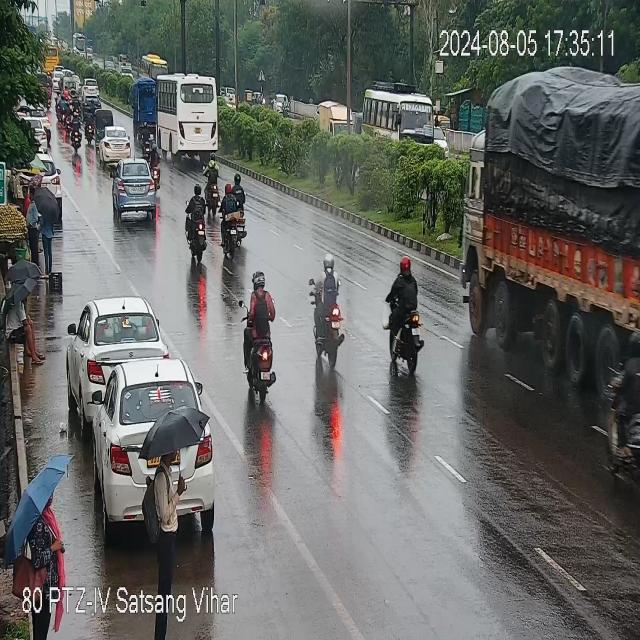2-wheelers: (384, 245, 434, 384), (242, 268, 297, 392), (309, 240, 356, 364), (609, 360, 640, 476), (181, 174, 212, 276), (198, 148, 228, 227), (221, 180, 240, 267), (232, 164, 247, 242), (146, 147, 166, 197), (64, 110, 84, 158), (48, 86, 76, 119), (84, 101, 101, 153), (140, 122, 152, 154), (280, 94, 292, 115)
auto: (94, 108, 113, 129)
bus: (154, 54, 220, 172), (364, 78, 444, 162), (43, 44, 63, 78)
car: (95, 364, 219, 529), (66, 297, 159, 427), (101, 156, 168, 231), (34, 148, 64, 212), (95, 126, 134, 162), (26, 112, 52, 158), (80, 68, 104, 108)
pedestrian: (138, 404, 204, 580), (12, 437, 79, 581), (1, 275, 47, 381), (11, 249, 48, 322), (41, 185, 67, 278), (24, 180, 42, 256)
truck: (449, 75, 640, 370), (313, 91, 349, 151), (127, 67, 157, 136)
